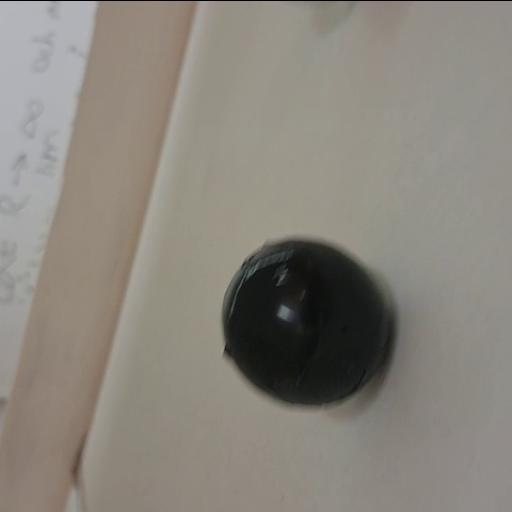dead: (220, 238, 392, 408)
